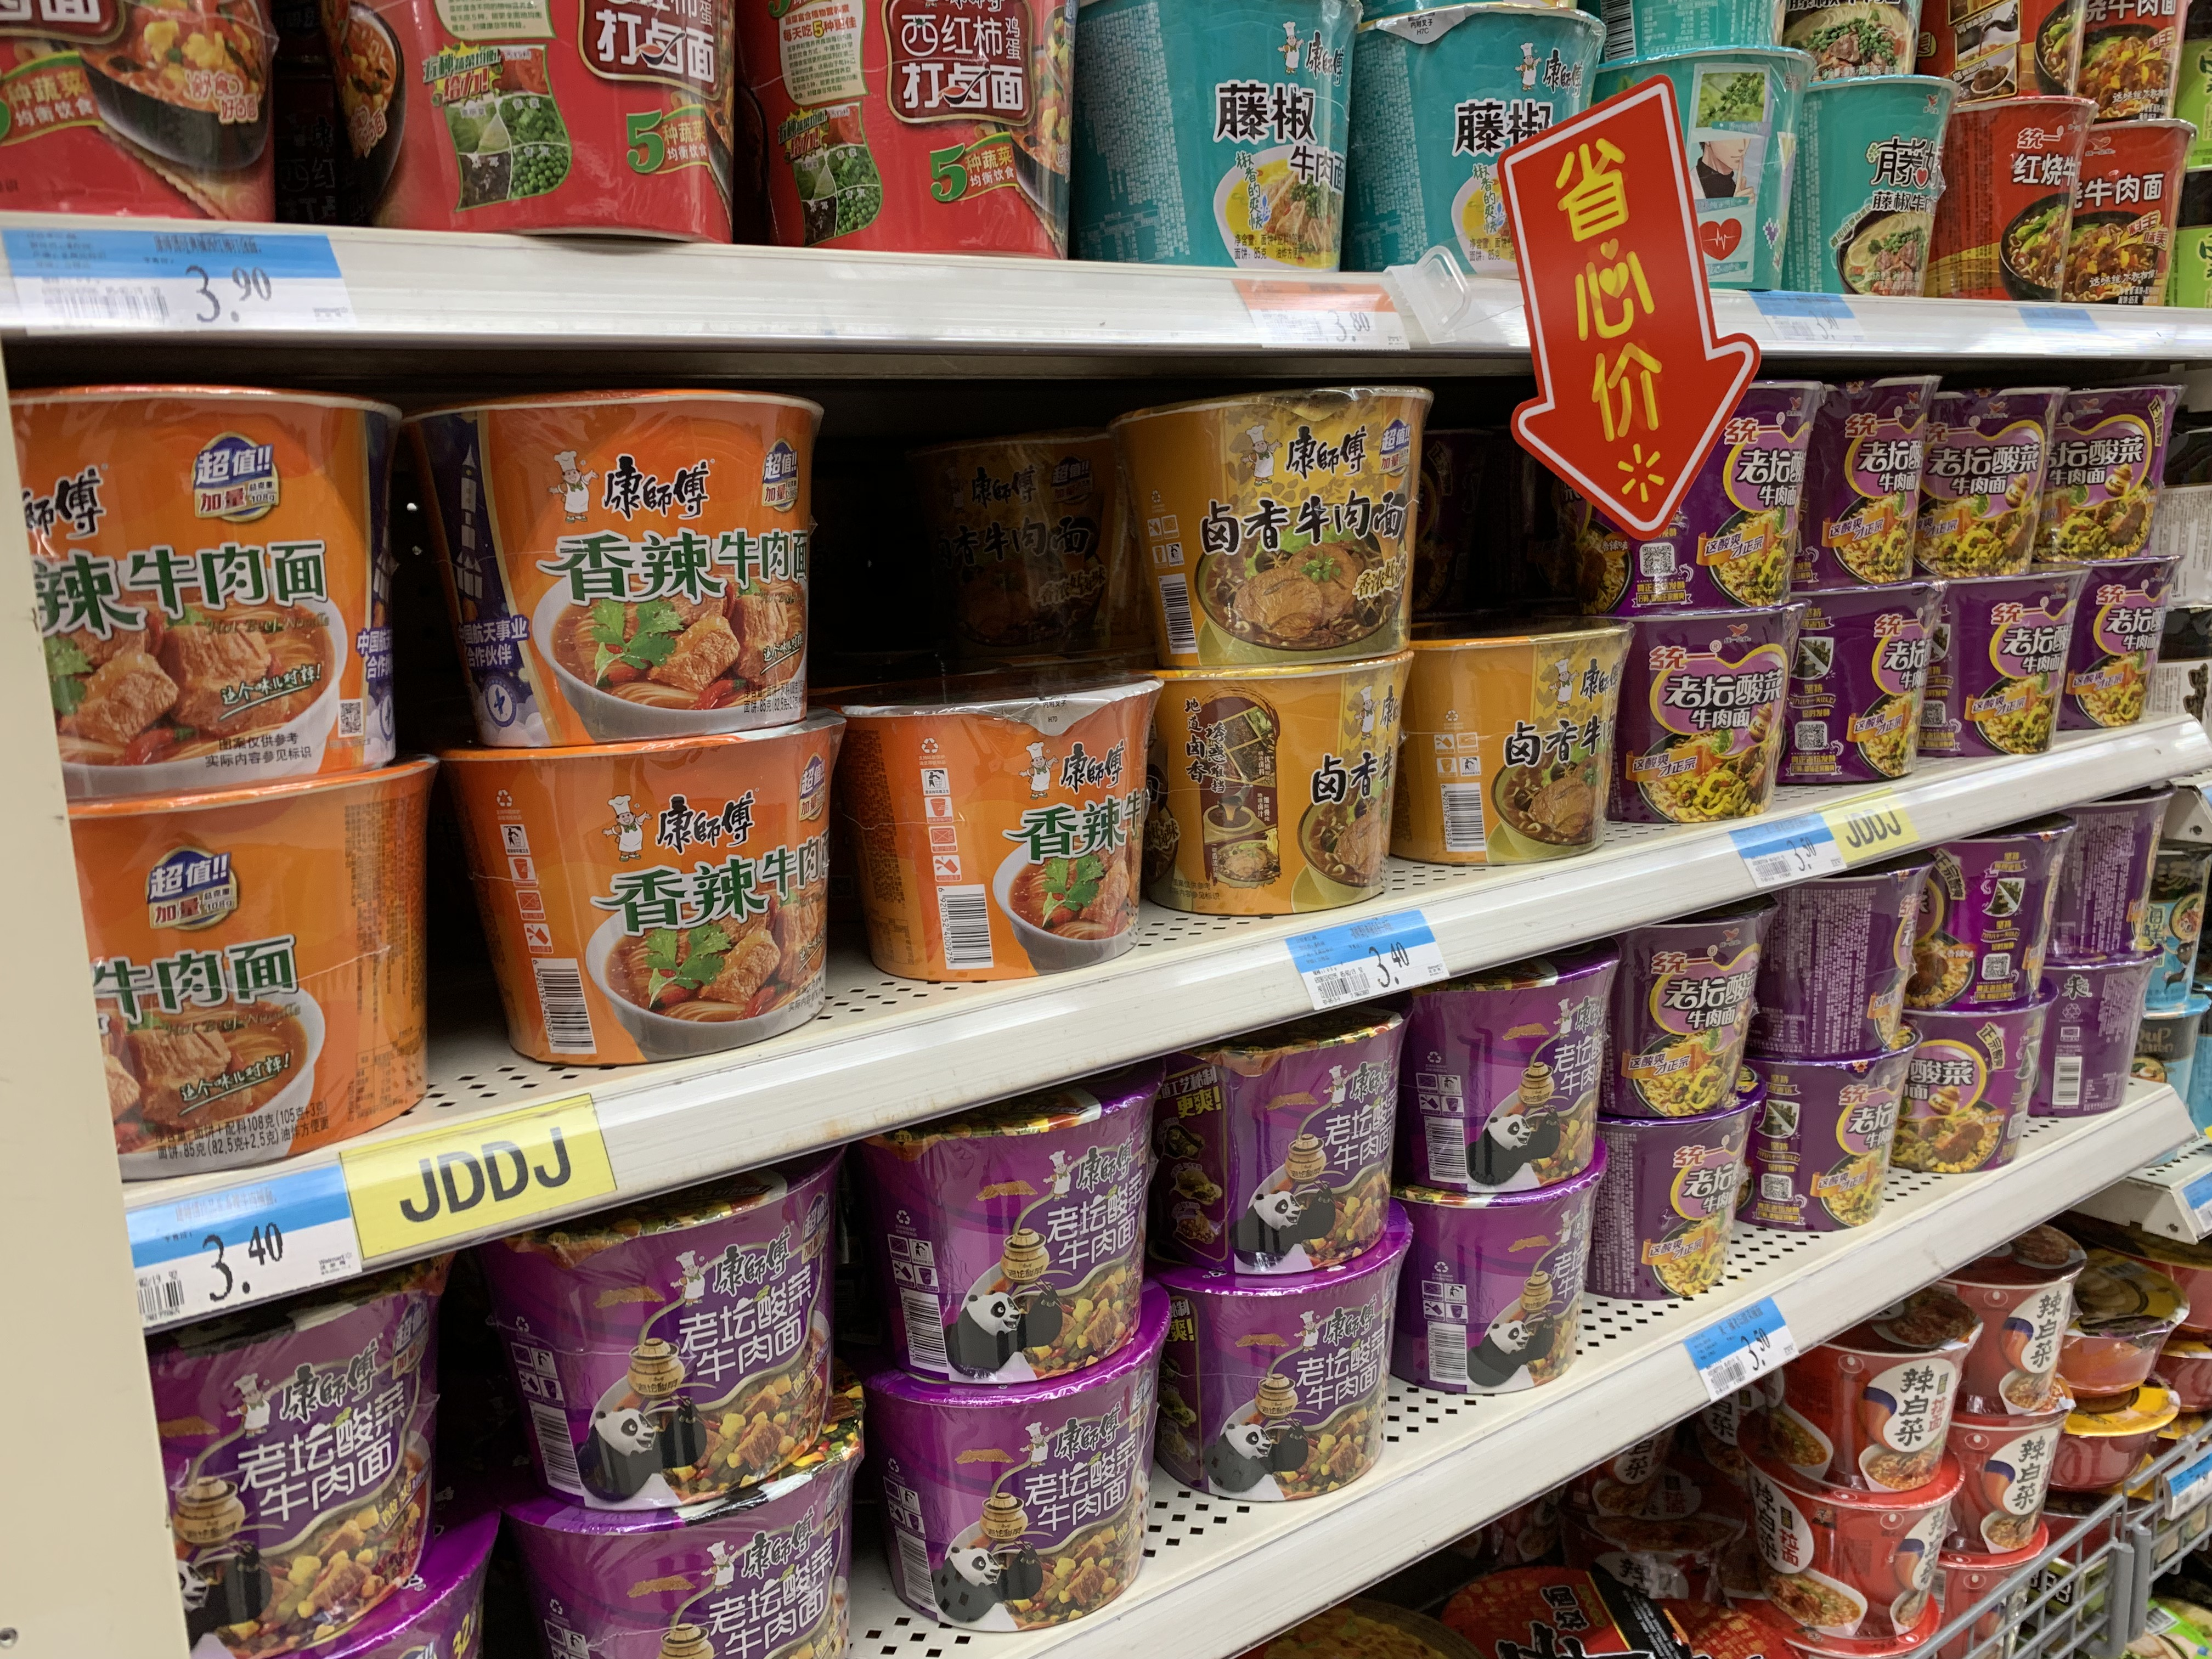luxiang: (1108, 383, 1435, 673), (1167, 652, 1418, 918), (1413, 615, 1637, 868)
xiangla: (7, 383, 404, 805), (66, 756, 439, 1183), (404, 387, 826, 751), (435, 714, 848, 1068), (846, 678, 1167, 983)
